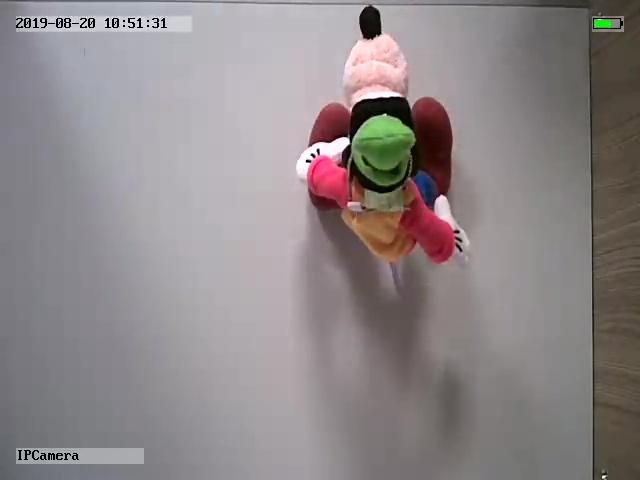goofy: (295, 5, 471, 271)
